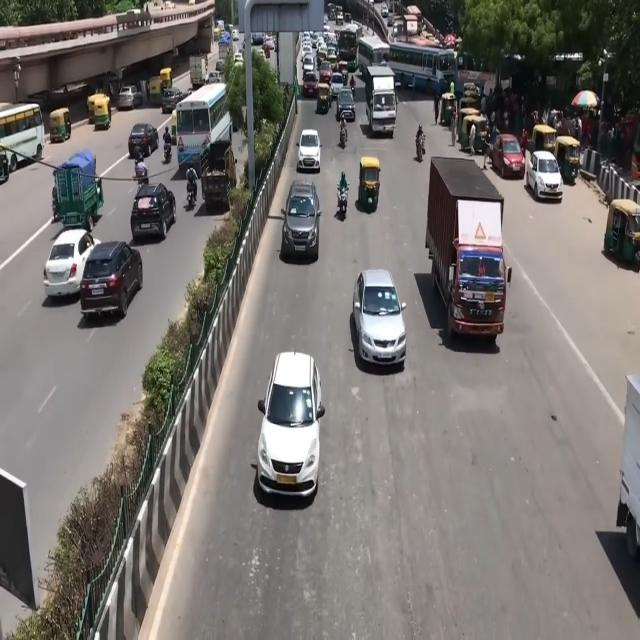auto: (604, 196, 639, 267), (554, 135, 581, 185), (358, 156, 381, 212), (460, 112, 489, 156), (531, 124, 558, 160), (87, 93, 111, 128), (49, 107, 71, 142), (440, 91, 457, 127), (316, 82, 332, 115), (148, 76, 166, 105), (160, 67, 172, 95), (338, 60, 349, 80)
bike-auto: (185, 166, 198, 206), (134, 152, 148, 185), (337, 181, 349, 218), (415, 124, 425, 160), (162, 126, 172, 160), (339, 116, 348, 148), (433, 92, 440, 124), (451, 110, 457, 146), (349, 75, 356, 100)
